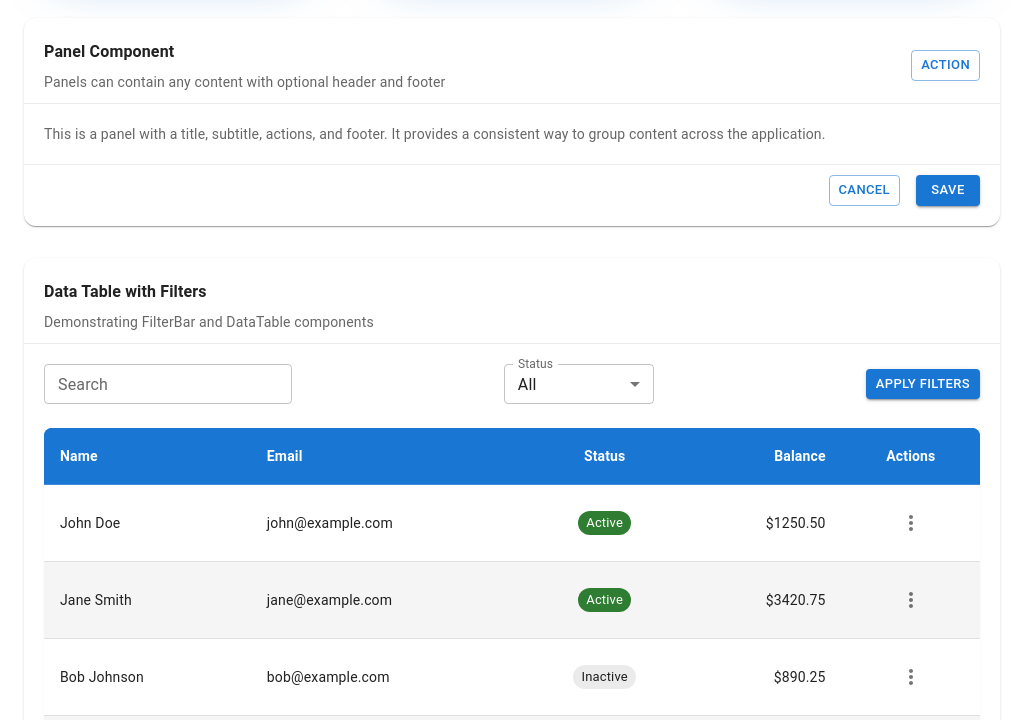
Scenario: ComponentShowcase Integration › filters users by status
(page scrolled)
Click the dropdown. click: (527, 384)
box: [518,374,536,394]
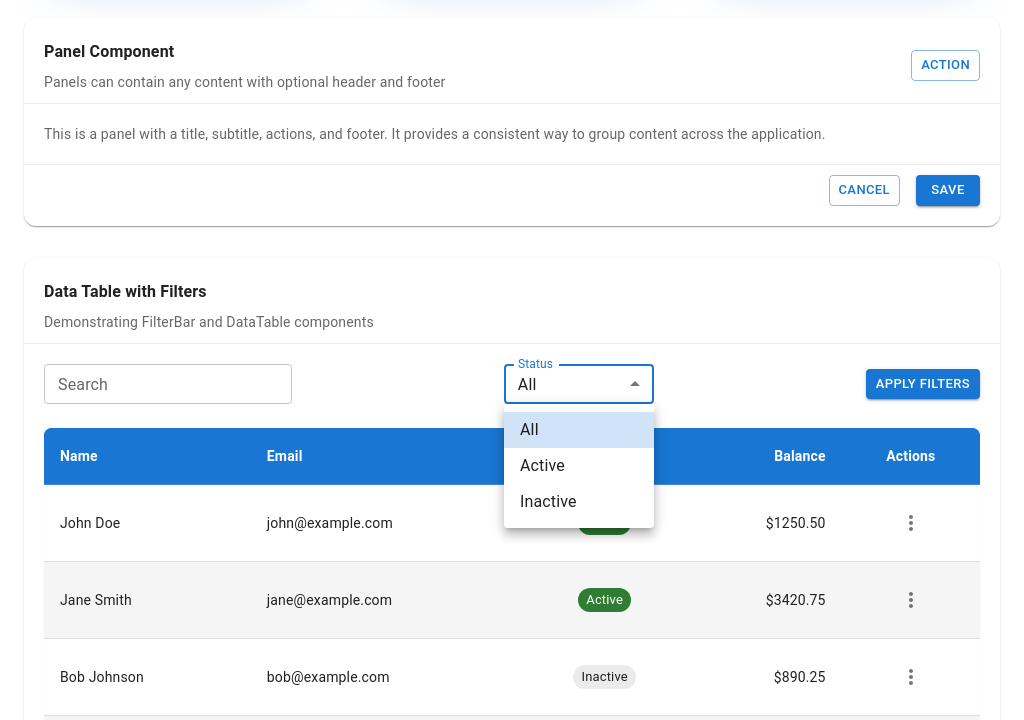
# Select "Inactive" from dropdown
Click the option "Inactive". click: (548, 502)
box: [520,492,577,511]
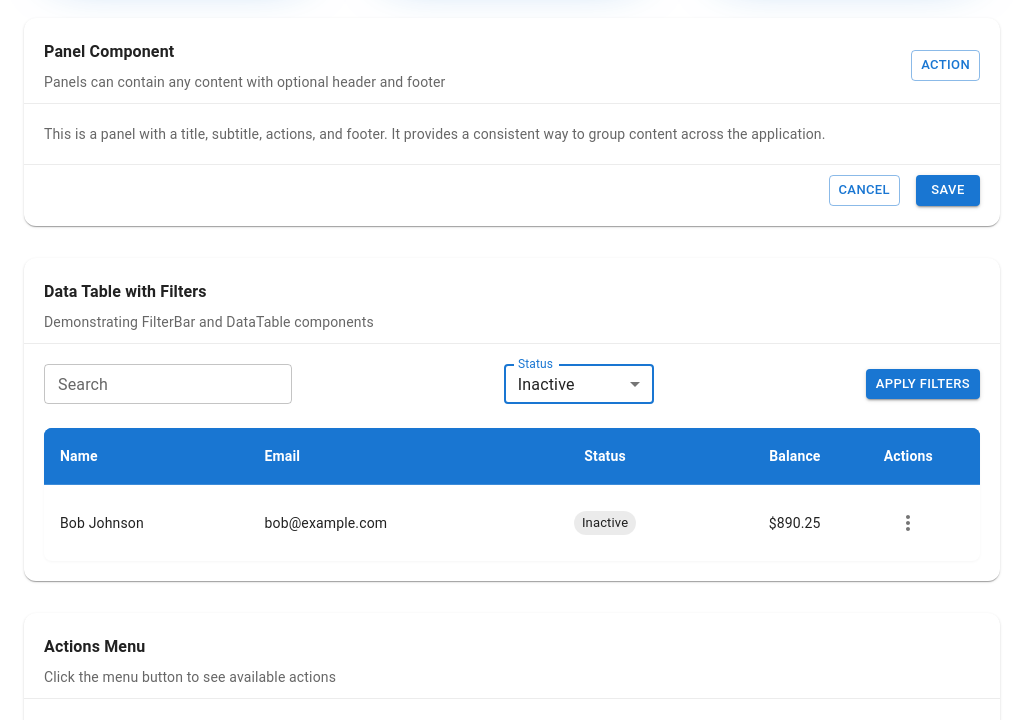
Check: the text "Bob Johnson" is shown, box [44,484,248,561]
Check: the text "Jane Smith" is gone
